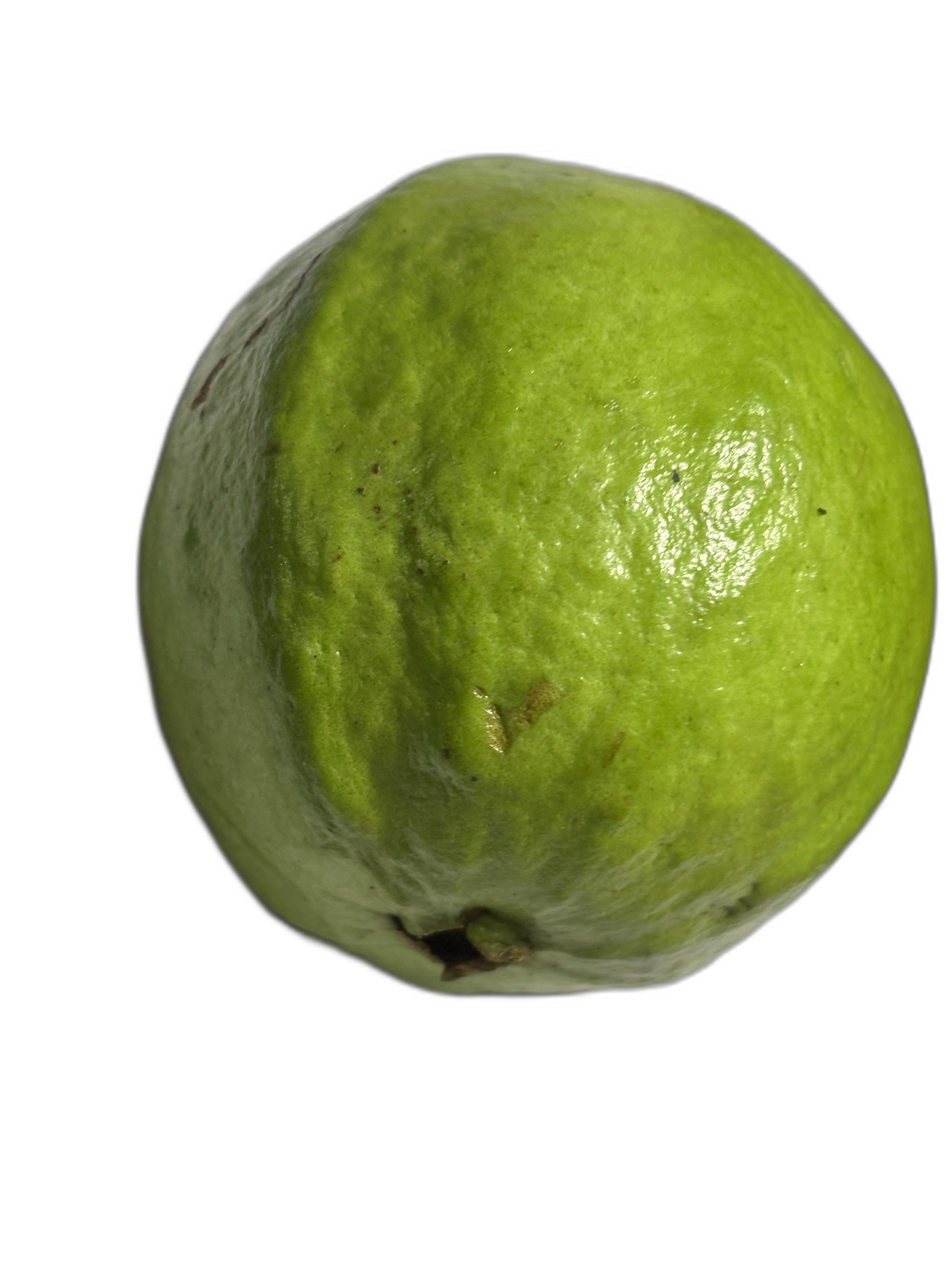guava: (135, 301, 952, 1062)
